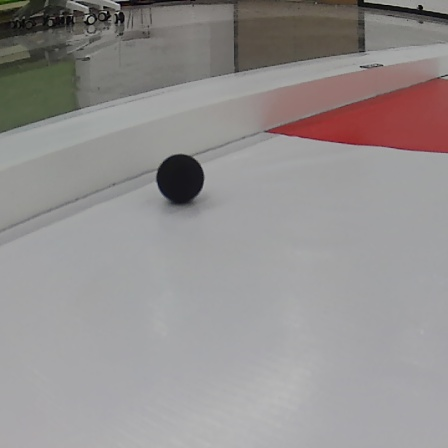black: (147, 148, 210, 203)
red_base: (269, 76, 448, 157)
